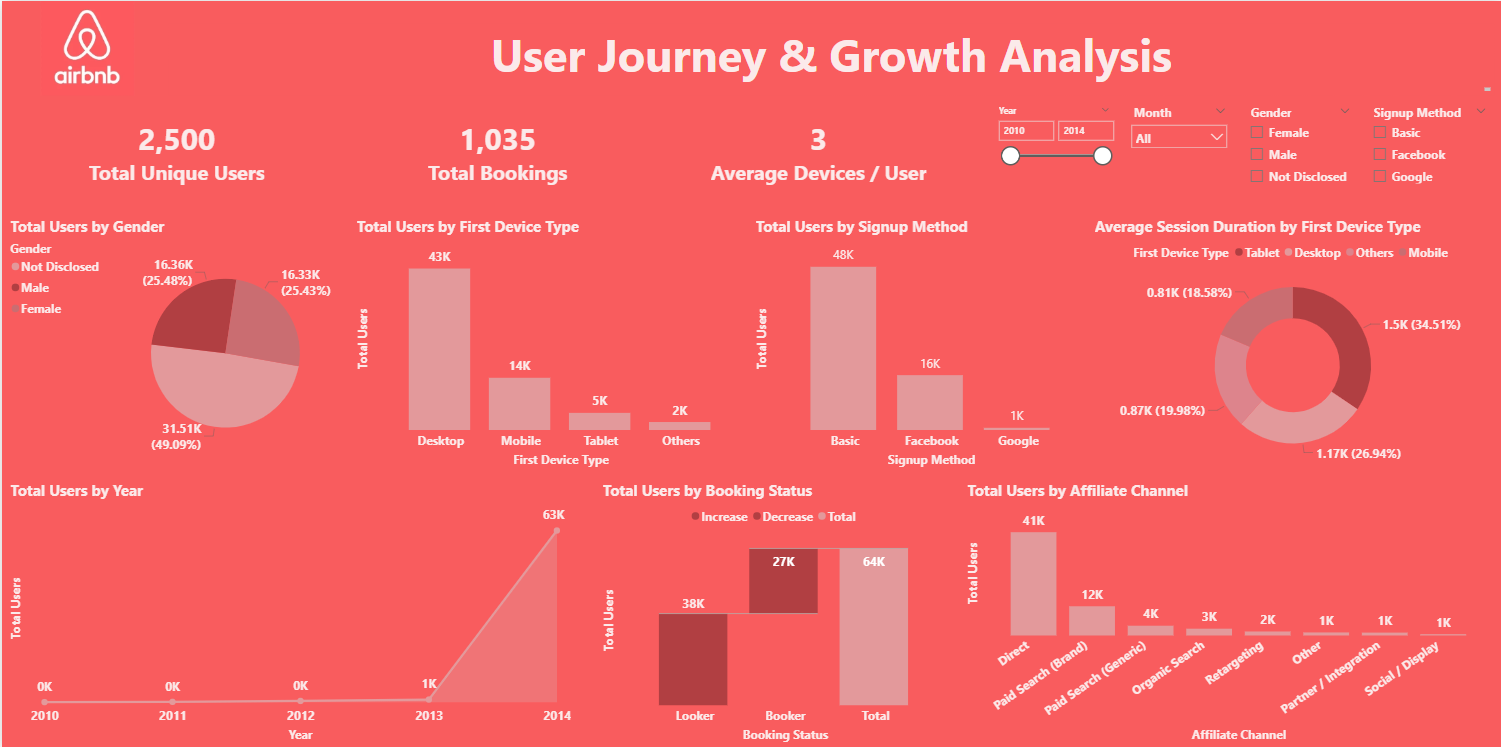

The page's visual inventory and layout, read from the dashboard file:
{"tool":"powerbi","page":{"name":"User Journey Overview","canvas":[2000,1000],"ordinal":0},"visuals":[{"type":"image","box":[5,0,216.3,125.7],"z":0},{"type":"cardVisual","fields":{"Data":["countries_users_sessions.total_unique_users","countries_users_sessions.total_bookings","countries_users_sessions.avg_devices_per_user"]},"box":[5,125.7,1310.2,148.4],"z":2000},{"type":"slicer","fields":{"Values":["countries_users_sessions.date_account_created.Variation.Date Hierarchy.Month"]},"box":[1495,132.5,147.5,140],"z":3000},{"type":"slicer","fields":{"Values":["countries_users_sessions.gender"]},"box":[1652.5,132.5,157.5,140],"z":4000},{"type":"slicer","fields":{"Values":["countries_users_sessions.signup_method"]},"box":[1815,132.5,175,140],"z":5000},{"type":"pieChart","fields":{"Category":["countries_users_sessions.gender"],"Y":["CountNonNull(countries_users_sessions.user_id)"]},"box":[5,285,455,340],"z":6000},{"type":"clusteredColumnChart","fields":{"Category":["countries_users_sessions.affiliate_channel"],"Y":["CountNonNull(countries_users_sessions.user_id)"]},"box":[1282.5,637.5,707.5,355],"z":7000},{"type":"areaChart","fields":{"Category":["countries_users_sessions.date_account_created.Variation.Date Hierarchy.Year"],"Y":["CountNonNull(countries_users_sessions.user_id)"]},"box":[5,637.5,757.5,355],"z":8000},{"type":"clusteredColumnChart","fields":{"Category":["countries_users_sessions.first_device_type"],"Y":["CountNonNull(countries_users_sessions.user_id)"]},"box":[467.5,285,527.5,340],"z":9000},{"type":"waterfallChart","fields":{"Category":["countries_users_sessions.booking_status"],"Y":["CountNonNull(countries_users_sessions.user_id)"]},"box":[795,637.5,470,355],"z":10000},{"type":"donutChart","fields":{"Category":["countries_users_sessions.first_device_type"],"Y":["countries_users_sessions.avg_session_duration"]},"box":[1452.5,285,537.5,340],"z":11000},{"type":"clusteredColumnChart","fields":{"Category":["countries_users_sessions.signup_method"],"Y":["CountNonNull(countries_users_sessions.user_id)"]},"box":[1000,285,452.5,340],"z":12000},{"type":"slicer","fields":{"Values":["countries_users_sessions.date_account_created.Variation.Date Hierarchy.Year"]},"box":[1315,132.5,172.5,140],"z":13000},{"type":"textbox","title":"User Journey & Growth Analysis","box":[222.5,30,1767.5,95],"z":13001}]}

Visuals, with their boxes in screenshot pixels (x1, y1, x2, y2), scaled from the page's 2000x1000 canvas onto the 1501x747 screenshot:
image: bbox(4, 0, 166, 94)
cardVisual - countries_users_sessions.total_unique_users x countries_users_sessions.total_bookings: bbox(4, 94, 987, 205)
slicer - countries_users_sessions.date_account_created.Variation.Date Hierarchy.Month: bbox(1122, 99, 1233, 204)
slicer - countries_users_sessions.gender: bbox(1240, 99, 1358, 204)
slicer - countries_users_sessions.signup_method: bbox(1362, 99, 1493, 204)
pieChart - countries_users_sessions.gender x CountNonNull(countries_users_sessions.user_id): bbox(4, 213, 345, 467)
clusteredColumnChart - countries_users_sessions.affiliate_channel x CountNonNull(countries_users_sessions.user_id): bbox(963, 476, 1493, 741)
areaChart - countries_users_sessions.date_account_created.Variation.Date Hierarchy.Year x CountNonNull(countries_users_sessions.user_id): bbox(4, 476, 572, 741)
clusteredColumnChart - countries_users_sessions.first_device_type x CountNonNull(countries_users_sessions.user_id): bbox(351, 213, 747, 467)
waterfallChart - countries_users_sessions.booking_status x CountNonNull(countries_users_sessions.user_id): bbox(597, 476, 949, 741)
donutChart - countries_users_sessions.first_device_type x countries_users_sessions.avg_session_duration: bbox(1090, 213, 1493, 467)
clusteredColumnChart - countries_users_sessions.signup_method x CountNonNull(countries_users_sessions.user_id): bbox(750, 213, 1090, 467)
slicer - countries_users_sessions.date_account_created.Variation.Date Hierarchy.Year: bbox(987, 99, 1116, 204)
"User Journey & Growth Analysis" textbox: bbox(167, 22, 1493, 93)
